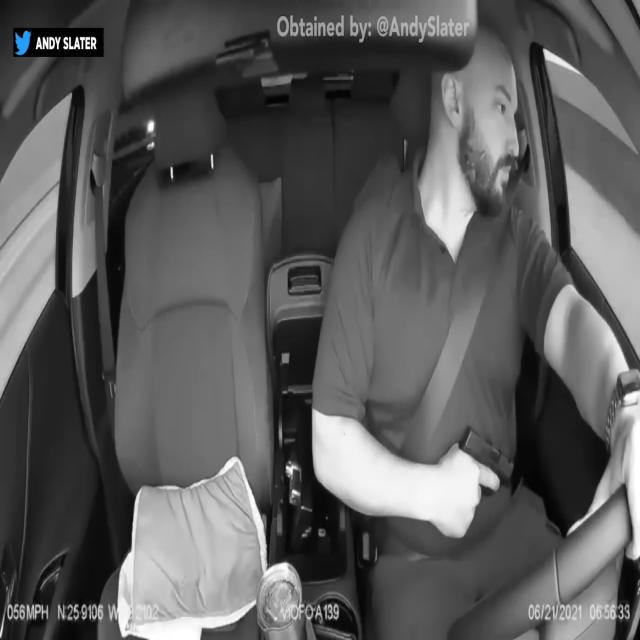senjata_api: (458, 424, 515, 494)
